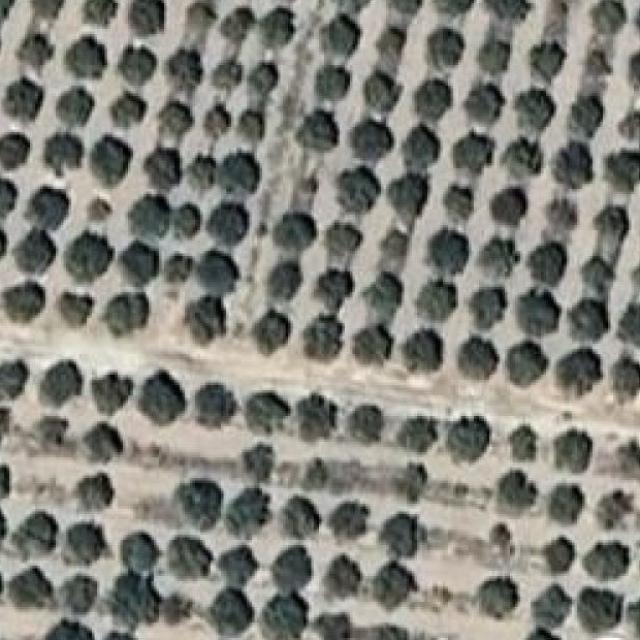Tree: (56, 228, 115, 280), (96, 287, 151, 339), (109, 576, 159, 625), (84, 135, 131, 187), (11, 230, 59, 279), (555, 346, 605, 393), (244, 390, 291, 439), (224, 486, 270, 536), (440, 416, 491, 461), (333, 165, 381, 212), (261, 593, 309, 640), (177, 478, 224, 526), (195, 251, 239, 302), (2, 279, 49, 326), (553, 424, 595, 476), (209, 588, 254, 636), (39, 356, 84, 404), (450, 130, 497, 175), (218, 150, 262, 198), (406, 75, 450, 122), (40, 132, 84, 179), (295, 395, 340, 440), (80, 421, 125, 466), (360, 271, 404, 317), (0, 75, 46, 119), (409, 277, 456, 320), (550, 142, 593, 189), (296, 313, 343, 356), (400, 328, 445, 372), (171, 535, 216, 579), (251, 311, 295, 356), (505, 339, 548, 385), (371, 563, 414, 609), (120, 189, 167, 231), (584, 540, 632, 581), (352, 318, 393, 366), (167, 44, 208, 92), (296, 109, 340, 153), (187, 295, 231, 339), (514, 287, 559, 330), (577, 586, 620, 630), (267, 543, 311, 586), (140, 375, 182, 420), (24, 189, 71, 229), (209, 202, 252, 245), (272, 207, 316, 249), (421, 24, 466, 65), (321, 15, 360, 62), (388, 176, 430, 219), (119, 238, 161, 281), (192, 385, 236, 426), (346, 120, 388, 162), (217, 548, 259, 590), (117, 529, 159, 571), (14, 514, 56, 556), (569, 297, 610, 340), (67, 37, 110, 78), (427, 230, 471, 270), (532, 243, 574, 284), (325, 215, 366, 257), (458, 338, 500, 379), (477, 576, 520, 616), (59, 571, 99, 614), (85, 372, 130, 410), (146, 145, 184, 190), (27, 413, 71, 451), (547, 483, 587, 524), (343, 400, 383, 441), (534, 581, 572, 624), (479, 238, 517, 281), (384, 509, 422, 552), (330, 499, 368, 542), (325, 553, 360, 599), (257, 3, 298, 42), (372, 230, 414, 268), (400, 125, 438, 167), (564, 94, 602, 135), (528, 37, 566, 78), (275, 496, 316, 534), (10, 566, 48, 607), (161, 591, 197, 634), (125, 0, 169, 35), (158, 96, 193, 140), (166, 197, 200, 242), (606, 357, 640, 401), (513, 89, 553, 126), (604, 151, 640, 192), (599, 488, 634, 530), (488, 187, 526, 225), (464, 80, 502, 118), (66, 524, 104, 562), (56, 89, 94, 127), (313, 65, 352, 102), (15, 32, 52, 71), (496, 471, 536, 507), (318, 266, 355, 304), (400, 419, 438, 456), (244, 447, 280, 486), (112, 91, 148, 130), (364, 74, 402, 110), (394, 462, 430, 500), (78, 476, 114, 514), (156, 249, 192, 287), (504, 138, 541, 174), (57, 292, 92, 330), (481, 518, 516, 556), (468, 287, 504, 323), (592, 0, 628, 36), (477, 36, 513, 72), (579, 256, 613, 292), (598, 204, 632, 240), (218, 3, 252, 39), (208, 58, 246, 90), (577, 49, 613, 82), (0, 359, 27, 403), (507, 424, 541, 458), (544, 196, 580, 228), (120, 44, 156, 76), (42, 617, 92, 640), (0, 132, 33, 166), (180, 1, 216, 32), (79, 0, 120, 27), (237, 109, 270, 142), (269, 259, 300, 294), (443, 184, 474, 219), (484, 0, 533, 22), (248, 60, 281, 91), (546, 535, 574, 570), (620, 299, 640, 348), (190, 148, 216, 185), (376, 24, 406, 56), (204, 104, 232, 138), (615, 440, 640, 476), (86, 194, 115, 225), (298, 458, 326, 490), (319, 612, 350, 640), (24, 0, 71, 18), (0, 178, 18, 220), (375, 619, 410, 640), (328, 0, 378, 14), (619, 112, 640, 144), (432, 0, 471, 14), (0, 457, 13, 498), (528, 624, 559, 640), (630, 594, 640, 640), (382, 0, 423, 10), (631, 52, 640, 94), (0, 230, 10, 259)
